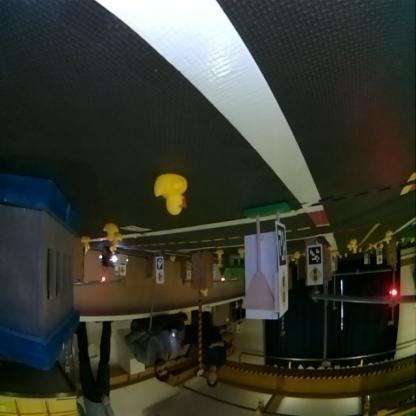Duckie: (154, 176, 186, 214), (103, 224, 117, 242), (81, 238, 89, 247), (238, 250, 244, 258), (110, 246, 115, 254), (216, 252, 221, 259), (351, 240, 356, 247), (387, 232, 391, 240)
Duckiebot: (100, 248, 127, 268)
Intersection sign: (119, 266, 125, 276), (156, 274, 162, 282)
QR code: (276, 223, 286, 268), (308, 246, 322, 266), (156, 260, 162, 270)
Signal sign: (280, 271, 286, 311), (309, 268, 320, 286)
